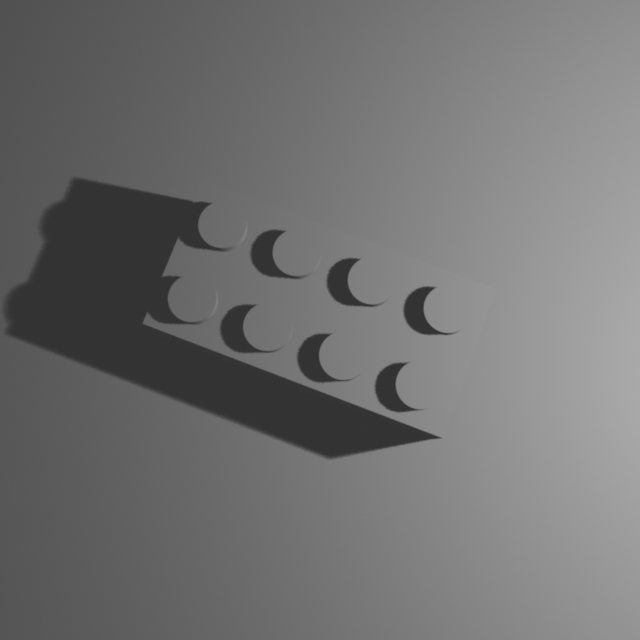lego_2x4: (139, 175, 500, 439)
